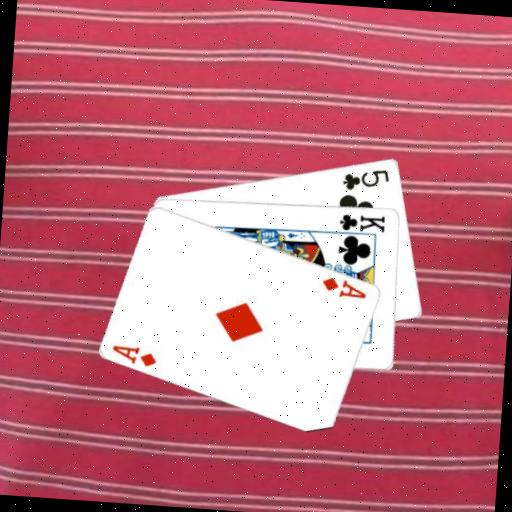5C: (339, 163, 391, 194)
AD: (319, 273, 370, 300), (109, 342, 160, 369)
KC: (332, 210, 388, 239)
